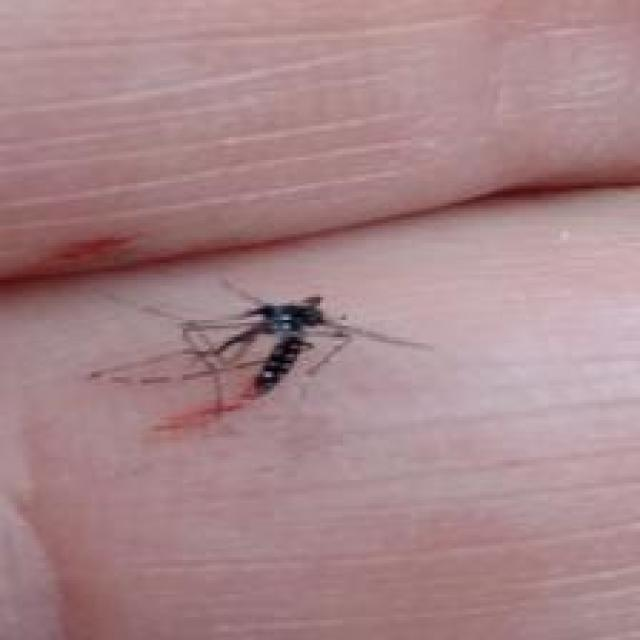Aedes albopictus: (86, 274, 434, 429)
